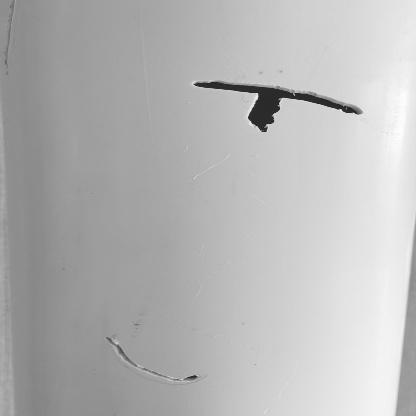fengxi: (191, 78, 363, 118), (105, 337, 201, 384)
kongdong: (247, 95, 287, 132)
